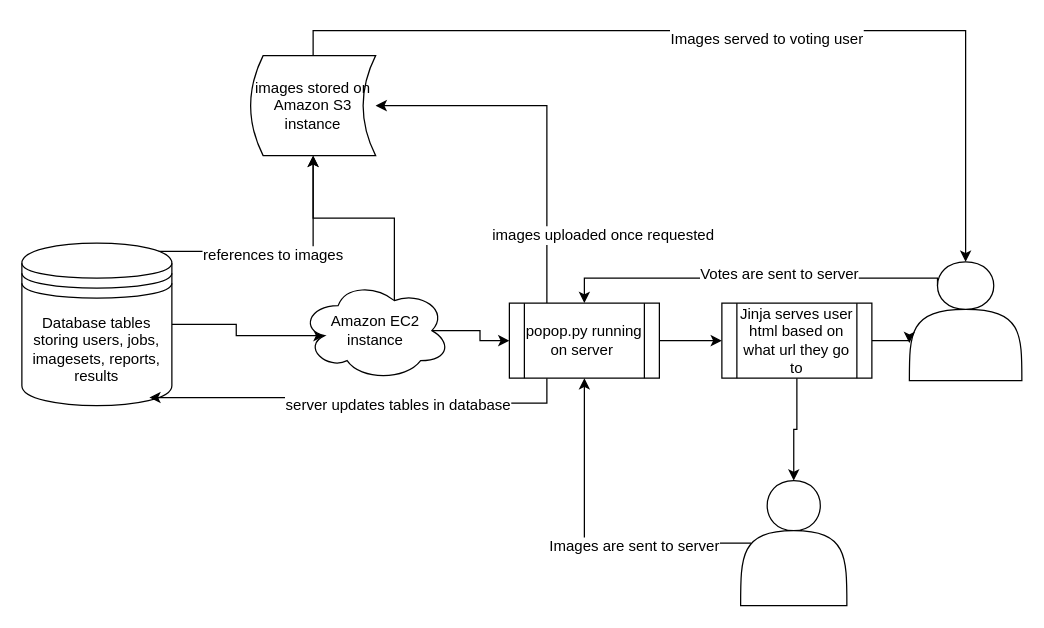
Image size: 1044x628. Some labels were removed from this diagram. Here are the shapes that lost their labels. From the top down, the centre of each, then its label:
the point at 965,321: User votes on content
the point at 793,542: User requests images
